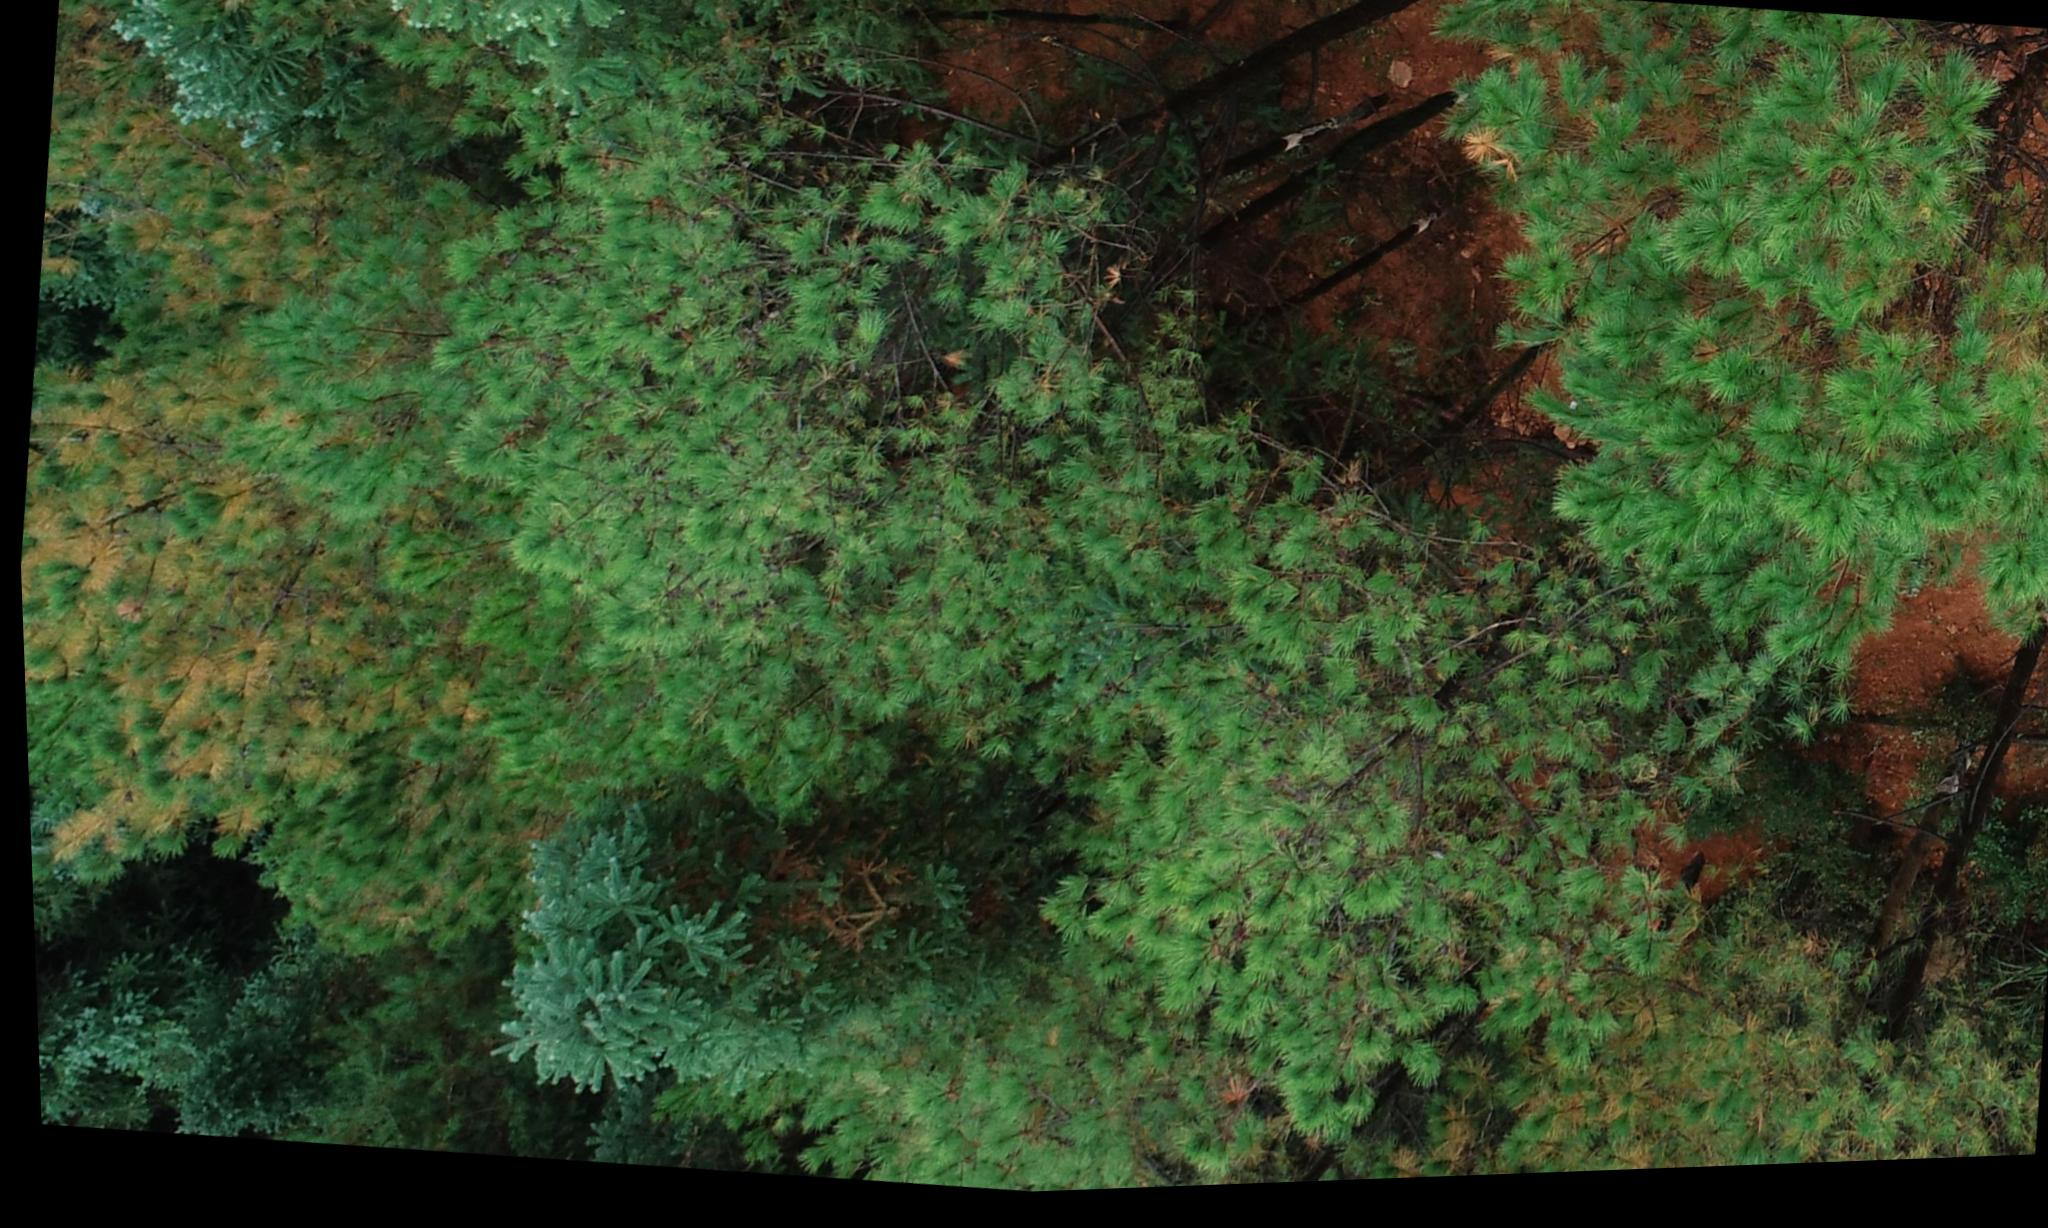light: (0, 0, 617, 1003), (1396, 3, 2013, 659), (1380, 860, 2010, 1189)
